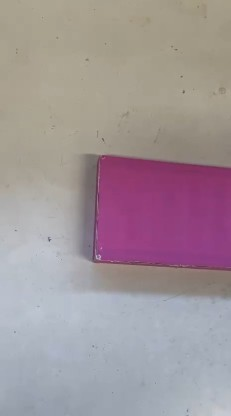pink: (80, 167, 224, 258)
